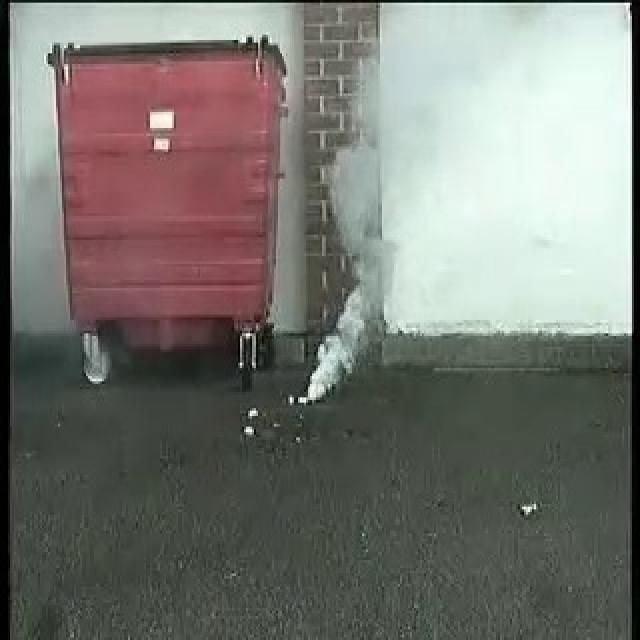smoke: (309, 152, 383, 403)
